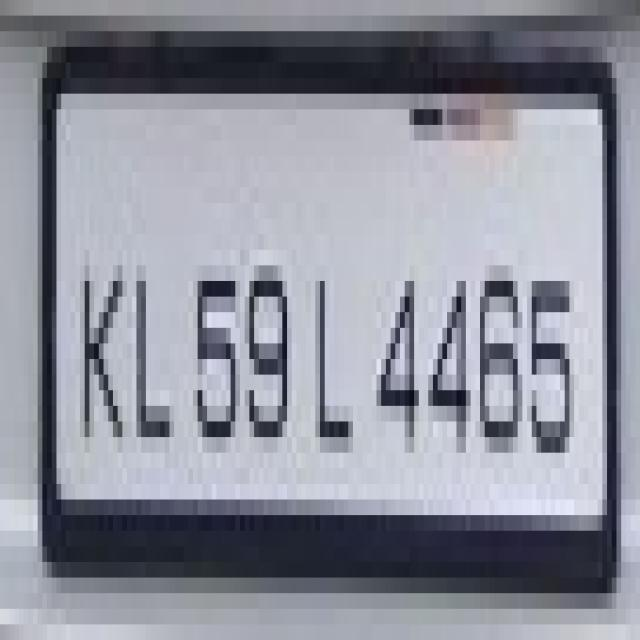4: (373, 273, 421, 459), (428, 264, 473, 451)
5: (526, 266, 582, 468), (195, 268, 240, 442)
6: (479, 262, 529, 473)
9: (246, 268, 299, 474)
K: (73, 266, 126, 454)
L: (309, 260, 361, 464), (131, 264, 174, 463)
